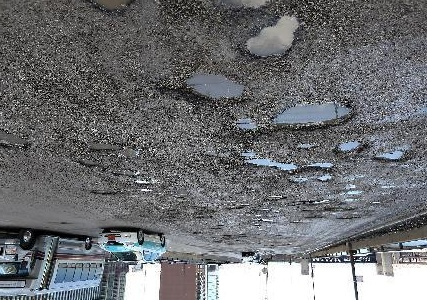pothole: (267, 100, 356, 136), (242, 14, 301, 62), (180, 70, 250, 106), (242, 156, 299, 173), (87, 0, 136, 18), (0, 128, 29, 151), (332, 140, 367, 158), (370, 149, 408, 165), (83, 142, 122, 153), (302, 160, 336, 172), (315, 174, 335, 184)
